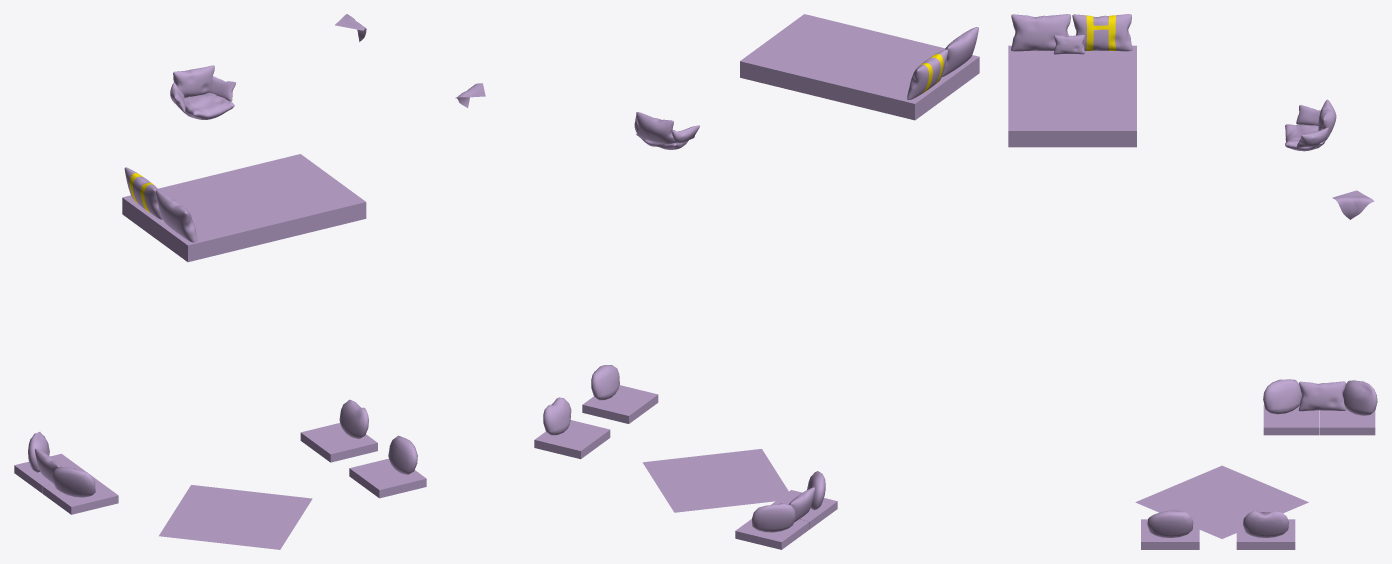
The picture shows the model from 3 angles, left to right: view 1: azimuth 30°, elevation 25°; view 2: azimuth 150°, elevation 25°; view 3: azimuth 270°, elevation 25°; orthographic projection. The views are drawn at different scales.
Visible parts, largest first — view 1: pPlane16; view 2: pPlane16; view 3: pPlane16.
Part boxes in pixels (x1,y1,x2,y2): pPlane16: [14, 14, 426, 549]; pPlane16: [455, 14, 979, 549]; pPlane16: [1008, 14, 1377, 549].
Size of the model in its own units: 1301 by 1487 by 1203.
